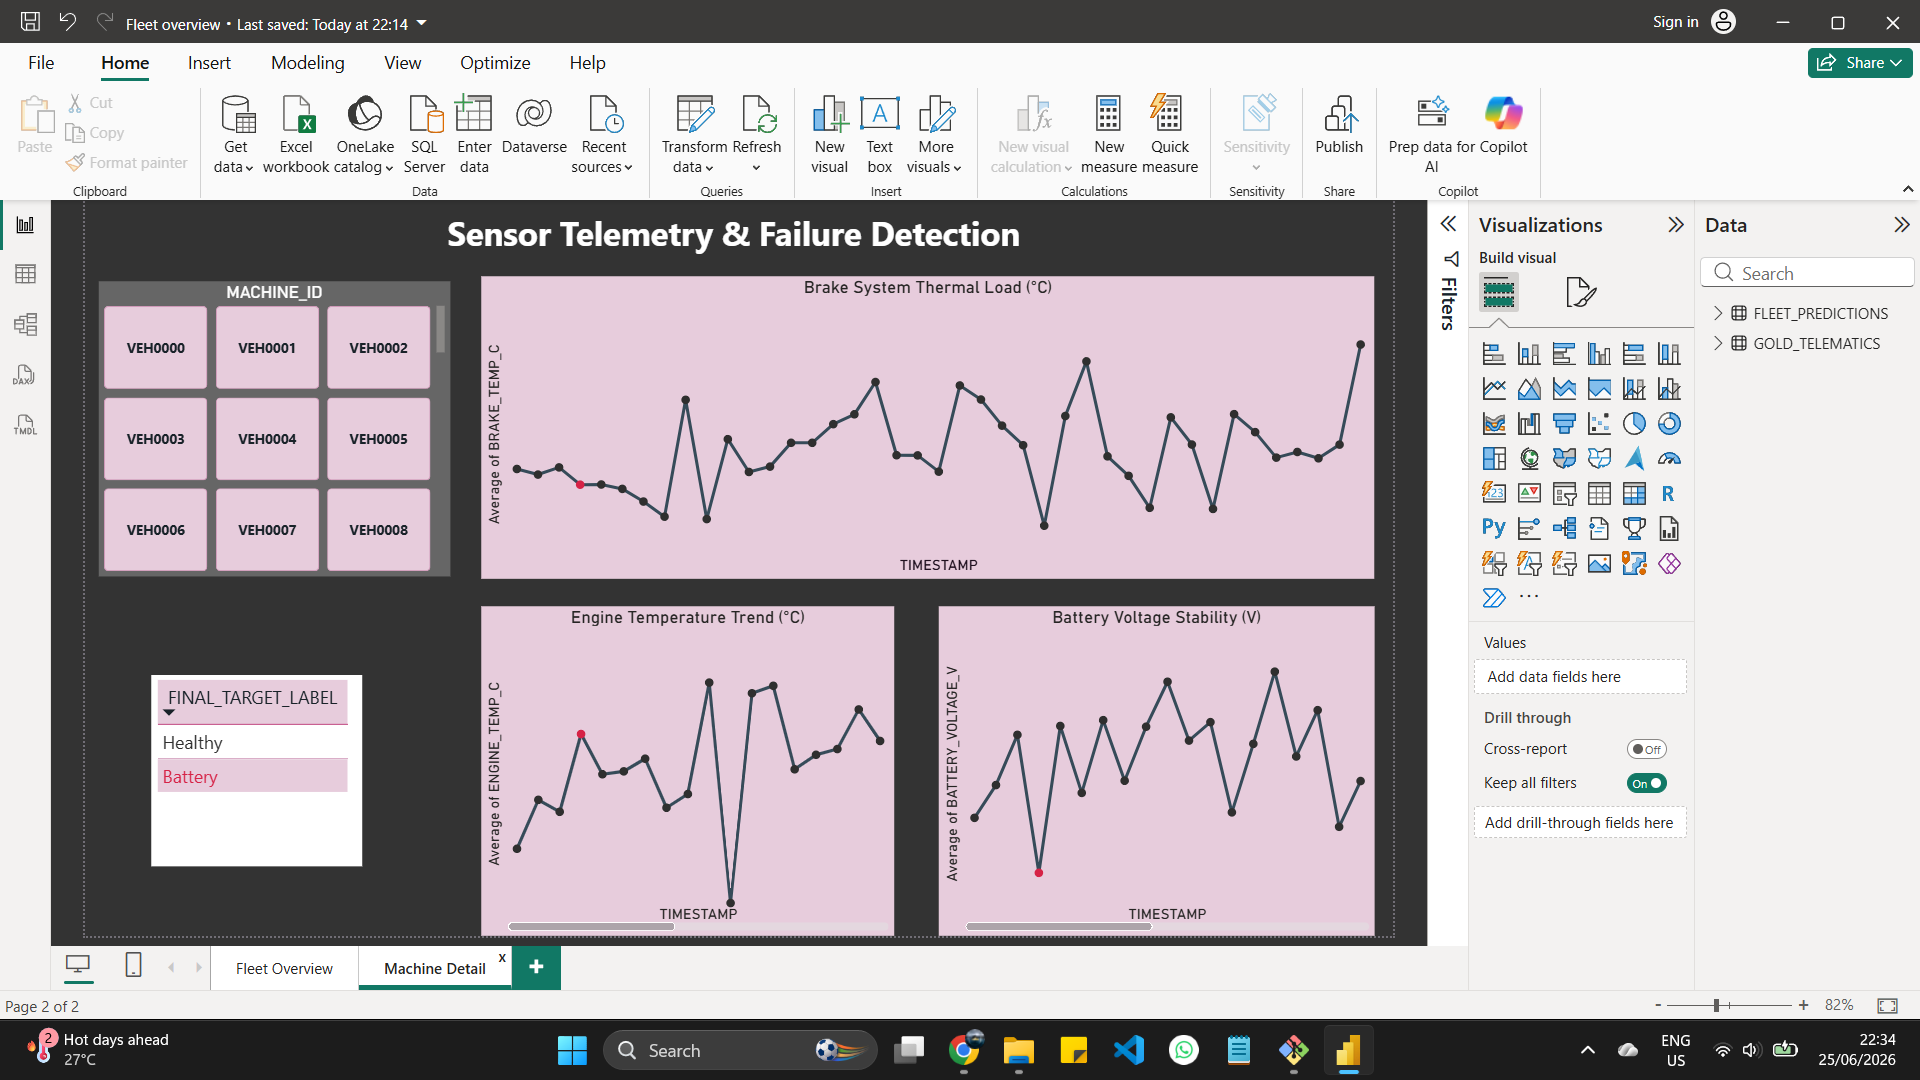

Layout of this report page (visuals, bound fields, positions):
{"tool":"powerbi","page":{"name":"Machine Detail","canvas":[1280,720],"ordinal":1},"visuals":[{"type":"advancedSlicerVisual","fields":{"Values":["GOLD_TELEMATICS.MACHINE_ID"]},"box":[13.8,80,343.8,288.8],"z":0},{"type":"lineChart","title":"Engine Temperature Trend (°C)","fields":{"Category":["GOLD_TELEMATICS.TIMESTAMP"],"Y":["Avg(GOLD_TELEMATICS.ENGINE_TEMP_C)"]},"box":[387.5,397.5,403.8,322.5],"z":1000},{"type":"lineChart","title":"Battery Voltage Stability (V)","fields":{"Category":["GOLD_TELEMATICS.TIMESTAMP"],"Y":["Avg(GOLD_TELEMATICS.BATTERY_VOLTAGE_V)"]},"box":[835,397.5,426.2,322.5],"z":2000},{"type":"tableEx","fields":{"Values":["GOLD_TELEMATICS.FINAL_TARGET_LABEL"]},"box":[65,465,206.2,187.5],"z":3000},{"type":"lineChart","title":"Brake System Thermal Load (°C)","fields":{"Category":["GOLD_TELEMATICS.TIMESTAMP"],"Y":["Avg(GOLD_TELEMATICS.BRAKE_TEMP_C)"]},"box":[387.5,75,873.8,296.2],"z":4000},{"type":"textbox","box":[240,0,790,63.8],"z":5000}]}

Visuals, with their boxes on the page's 1280x720 design canvas (x1, y1, x2, y2). These are canvas units, not pixel positions in the 1920x1080 screenshot, which may show the page scaled, cropped or inside an application window:
advancedSlicerVisual - GOLD_TELEMATICS.MACHINE_ID: <bbox>14, 80, 358, 369</bbox>
"Engine Temperature Trend (°C)" lineChart: <bbox>388, 398, 791, 720</bbox>
"Battery Voltage Stability (V)" lineChart: <bbox>835, 398, 1261, 720</bbox>
tableEx - GOLD_TELEMATICS.FINAL_TARGET_LABEL: <bbox>65, 465, 271, 652</bbox>
"Brake System Thermal Load (°C)" lineChart: <bbox>388, 75, 1261, 371</bbox>
textbox: <bbox>240, 0, 1030, 64</bbox>
